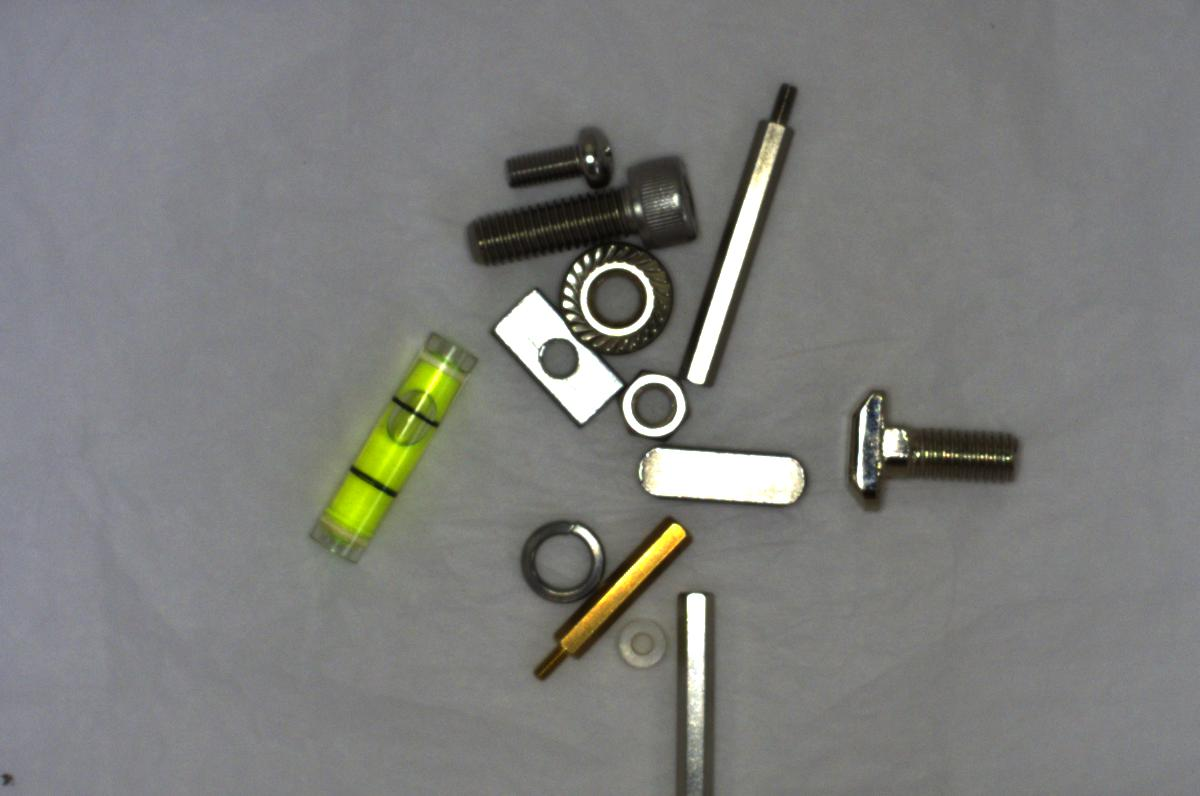Double hexagonal column: (662, 583, 735, 792)
Flange nut: (546, 235, 678, 362)
Hexagon nut: (612, 362, 700, 441)
Hexagon pillar: (511, 510, 694, 680)
Hexagon screw: (464, 146, 714, 267)
Hexagonal steel column: (652, 74, 821, 387)
Horizontal bubble: (296, 322, 493, 568)
Keybar: (629, 433, 815, 515)
Plastic cushion pillar: (606, 609, 669, 677)
Rectangular nut: (497, 291, 623, 424)
Round head screw: (500, 121, 619, 192)
Spring washer: (515, 515, 610, 605)
T-shaped screw: (835, 378, 1030, 515)
